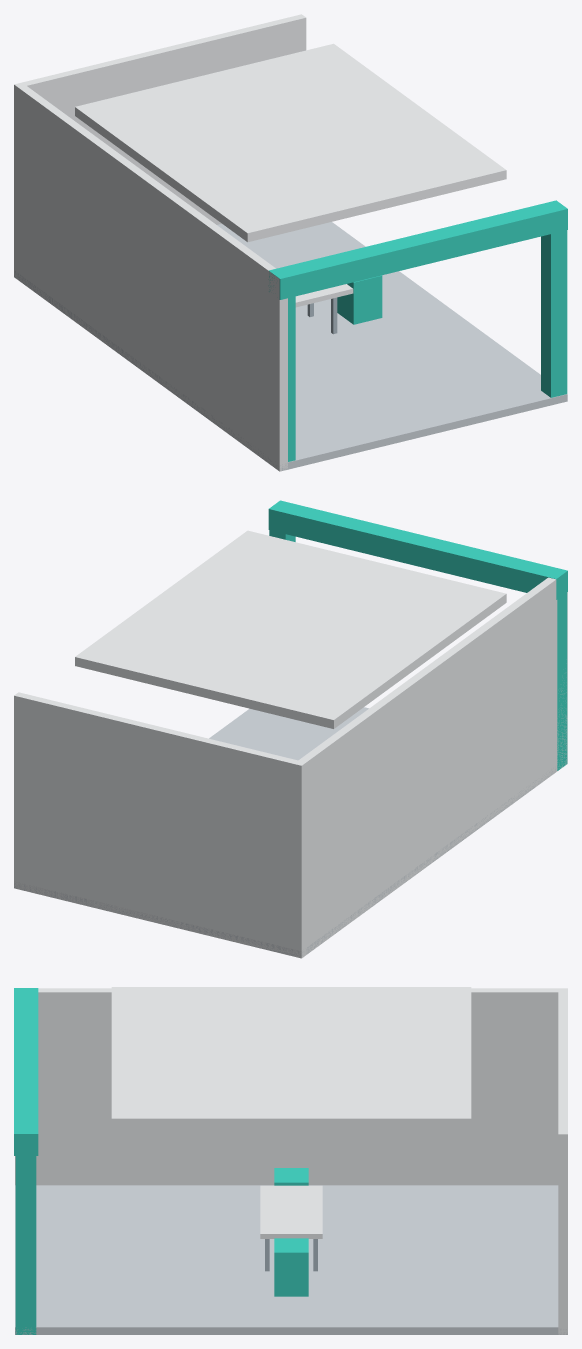
3 views of the same model, one above another, from view 1: azimuth 30°, elevation 25°; view 2: azimuth 150°, elevation 25°; view 3: azimuth 270°, elevation 25° (orthographic). The views are drawn at different scales.
Parts seen in each view (by area): view 1: Exhibition Booth Concept; view 2: Exhibition Booth Concept; view 3: Exhibition Booth Concept.
Boxes of the visible parts, <box> form: Exhibition Booth Concept: <box>14,14,567,471</box>; Exhibition Booth Concept: <box>14,500,567,958</box>; Exhibition Booth Concept: <box>14,987,567,1334</box>.
Bounding box in the file's own units: 5 × 3.34 × 8.01.
